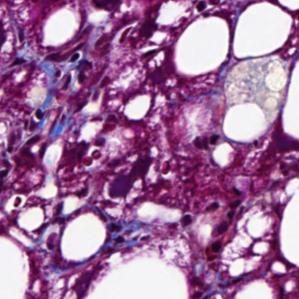inflammation: (102, 150, 164, 203), (102, 153, 158, 204), (206, 196, 247, 257), (48, 49, 95, 92)
